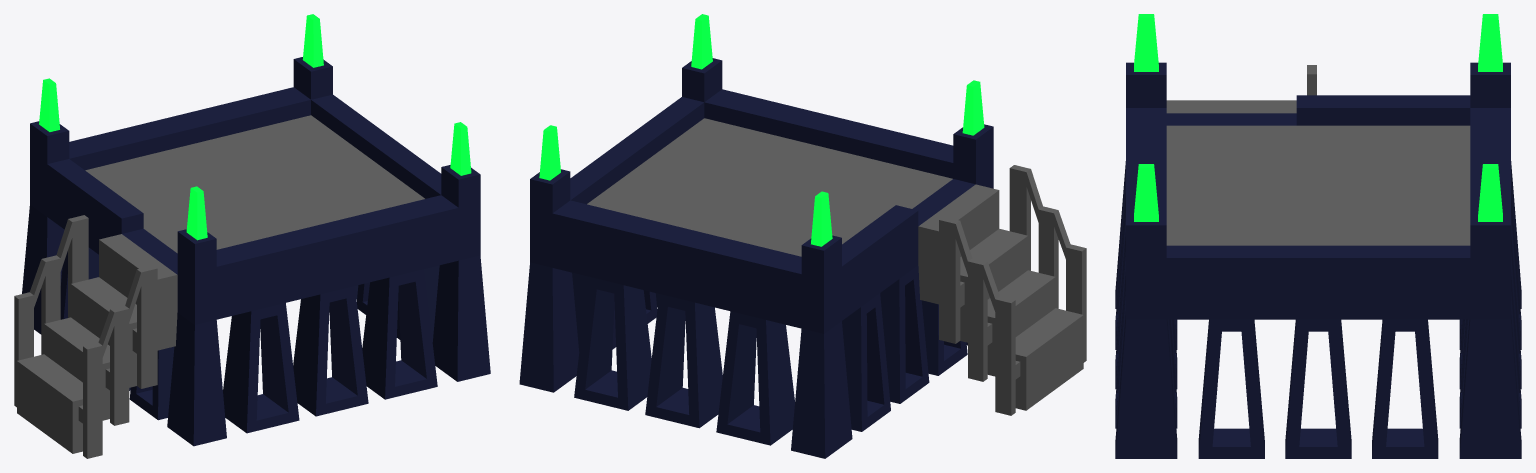
Rendered from LaunchPad.fbx.
3 views of the same model, side by side, from view 1: azimuth 30°, elevation 25°; view 2: azimuth 150°, elevation 25°; view 3: azimuth 270°, elevation 25° (orthographic). The views are drawn at different scales.
Parts seen in each view (by area): view 1: LaunchPad; view 2: LaunchPad; view 3: LaunchPad.
Part boxes in pixels (x1=…): LaunchPad: x1=14, y1=14, x2=490, y2=458; LaunchPad: x1=519, y1=14, x2=1086, y2=458; LaunchPad: x1=1115, y1=14, x2=1521, y2=458.
Bounding box in the file's own units: 739 × 434 × 563.
